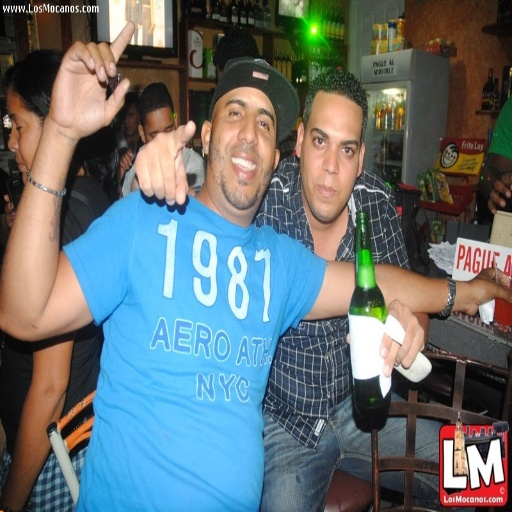hand: (33, 38, 123, 160), (133, 119, 197, 208), (377, 295, 424, 378), (467, 268, 511, 318), (485, 169, 511, 213), (117, 144, 137, 177), (3, 192, 17, 225)
